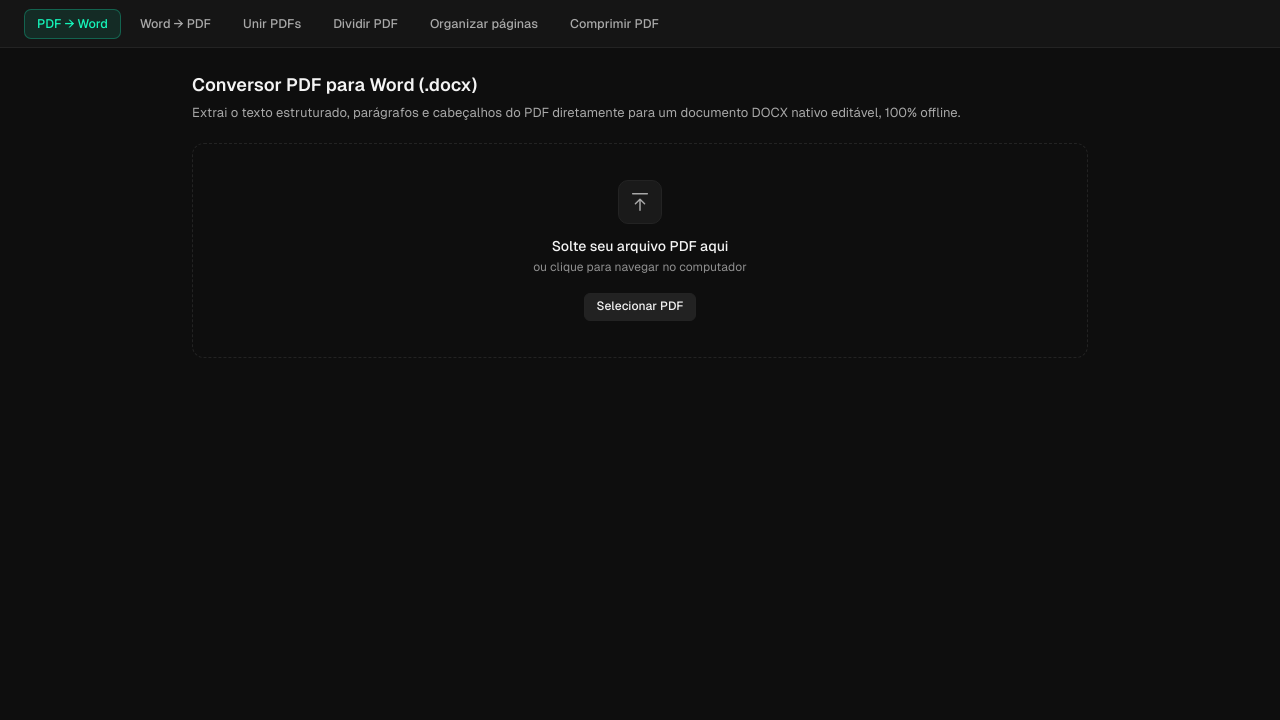
Test: Document Engine Screens Tests › switches between all document tools smoothly
The width and height of the screenshot is (1280, 720).
Click the button "Word → PDF": click(176, 24) [127, 8, 224, 38]
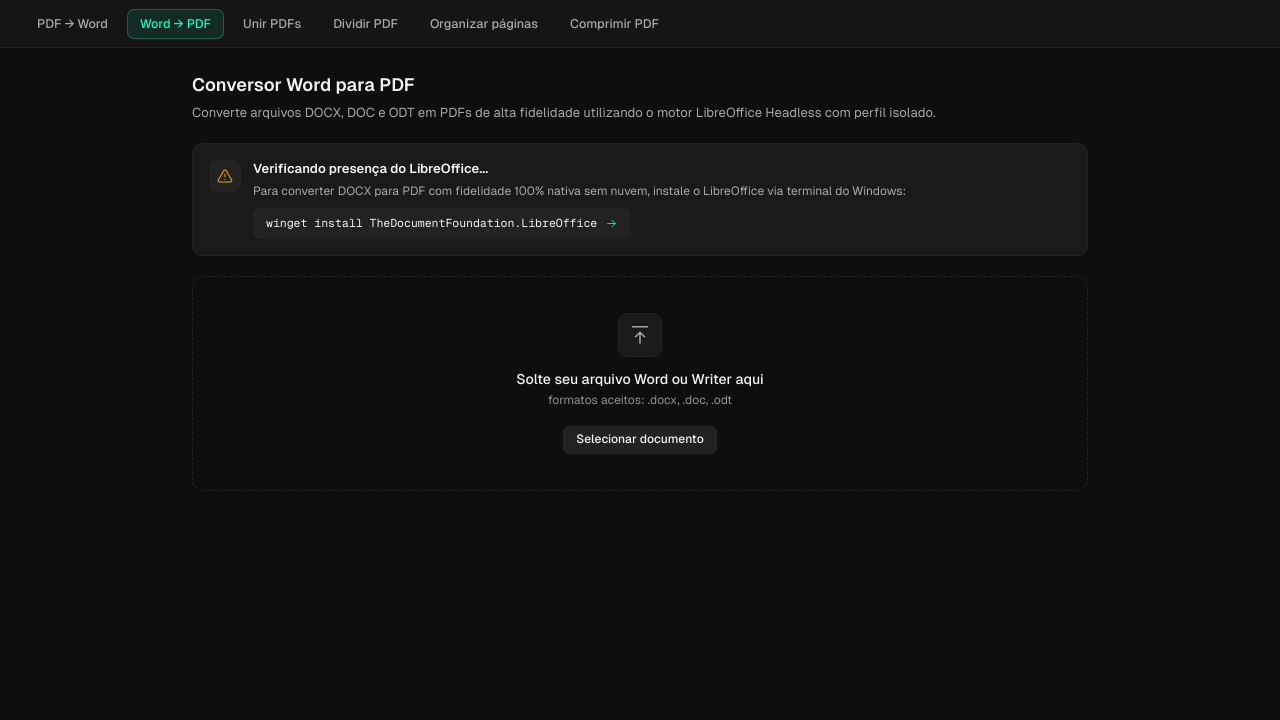
Result: the heading "Conversor Word para PDF" is shown at [192, 74, 415, 95]
Switch to Unir PDFs
Click the button "Unir PDFs": click(272, 24) [230, 8, 314, 38]
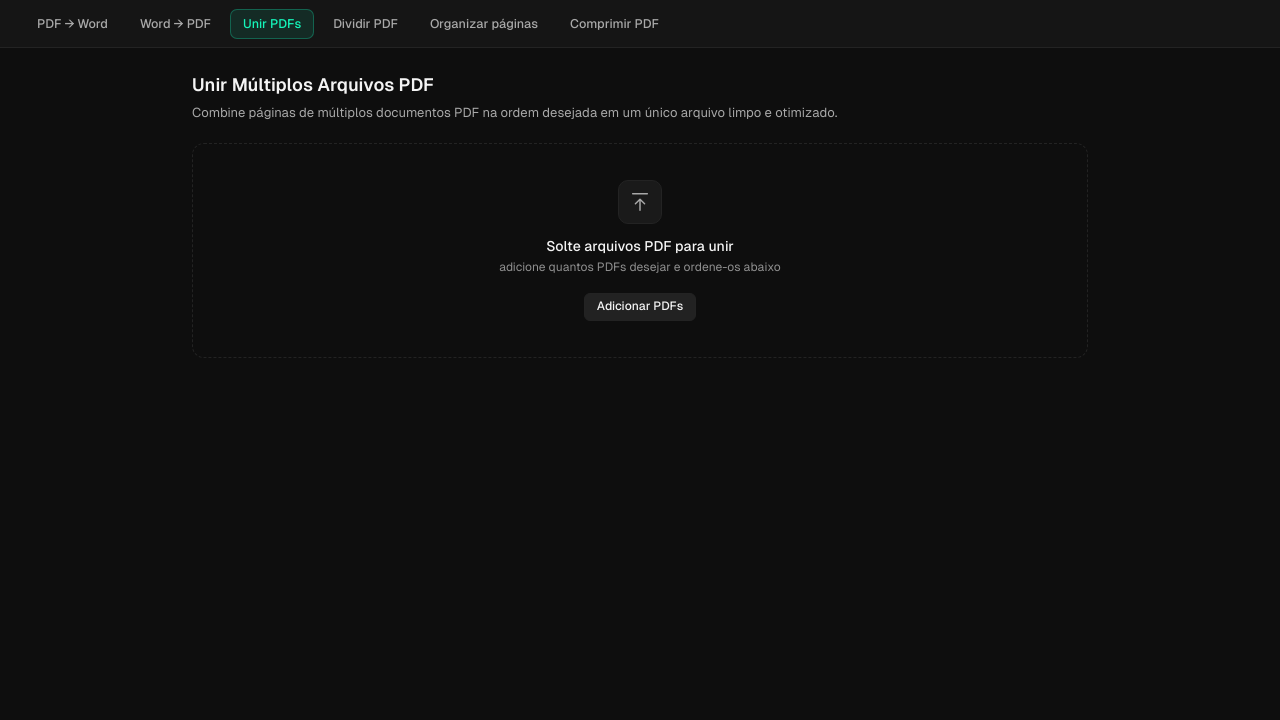
Result: the heading "Unir Múltiplos Arquivos PDF" is shown at [192, 74, 434, 95]
Switch to Dividir PDF
Click the button "Dividir PDF": click(366, 24) [320, 8, 411, 38]
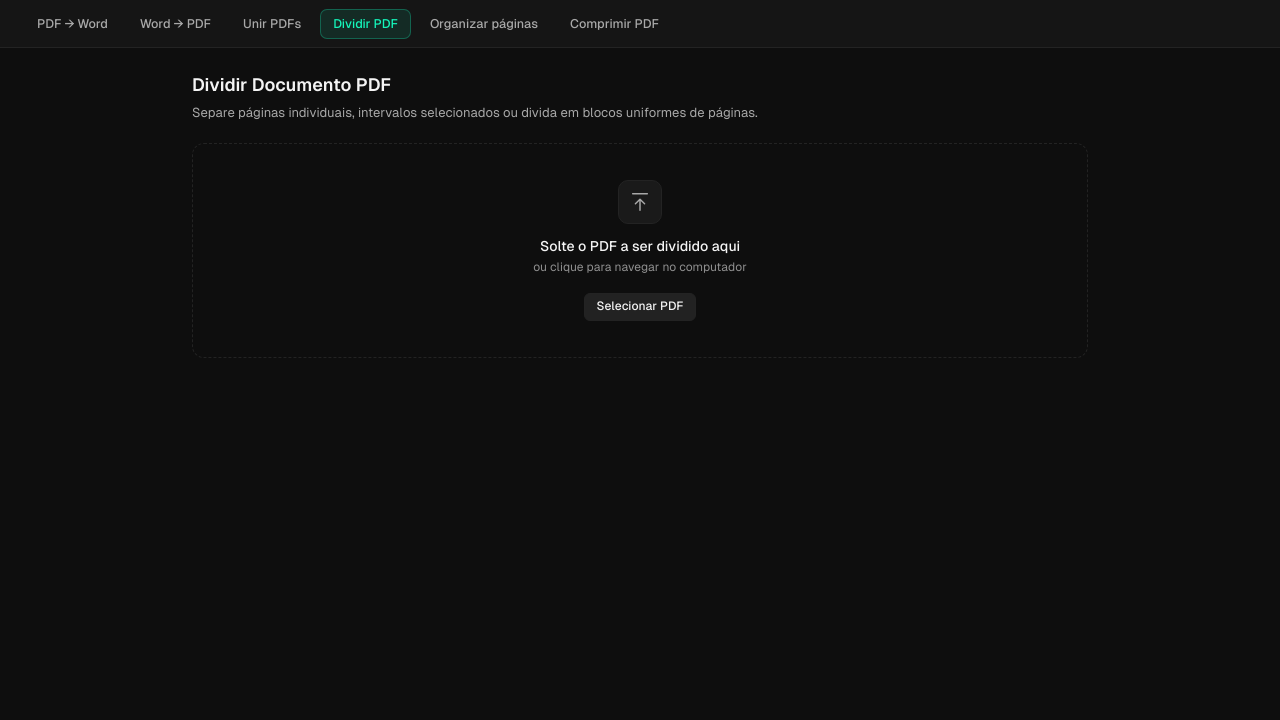
Result: the heading "Dividir Documento PDF" is shown at [192, 74, 391, 95]
Switch to Organizar páginas
Click the button "Organizar páginas": click(484, 24) [417, 8, 551, 38]
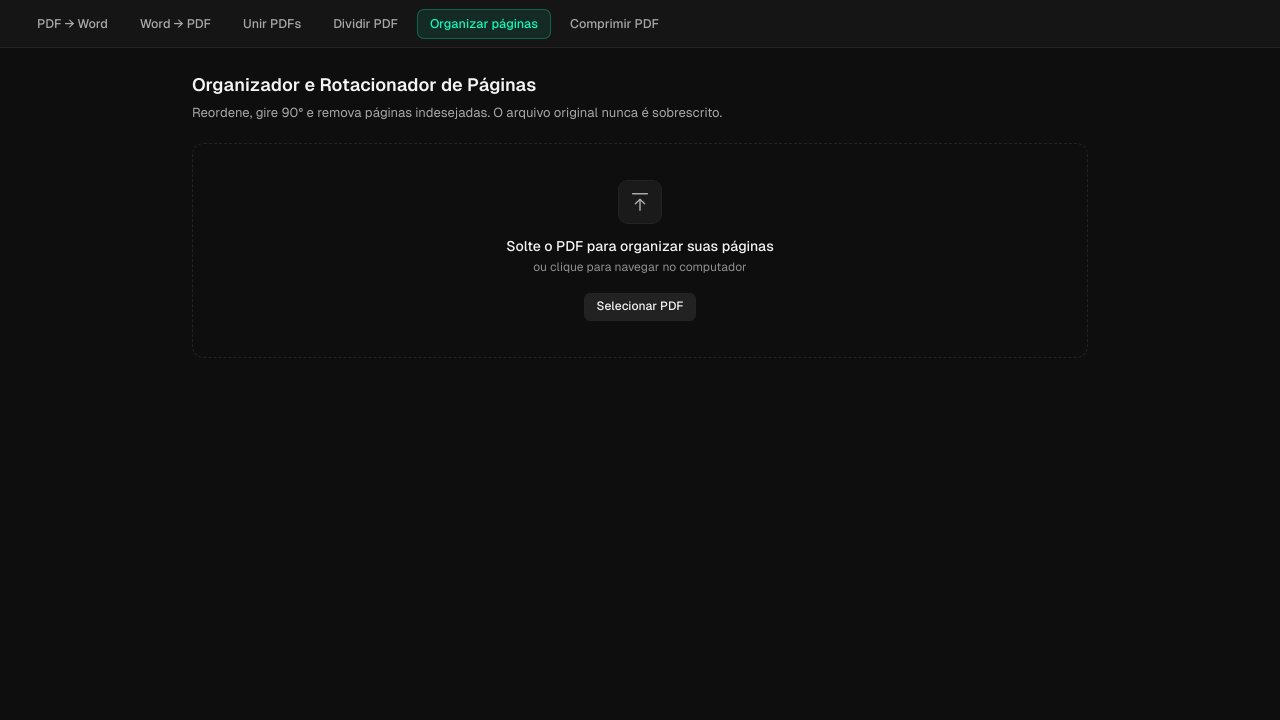
Result: the heading "Organizador e Rotacionador de Páginas" is shown at [192, 74, 536, 95]
Switch to Comprimir PDF
Click the button "Comprimir PDF": click(614, 24) [557, 8, 672, 38]
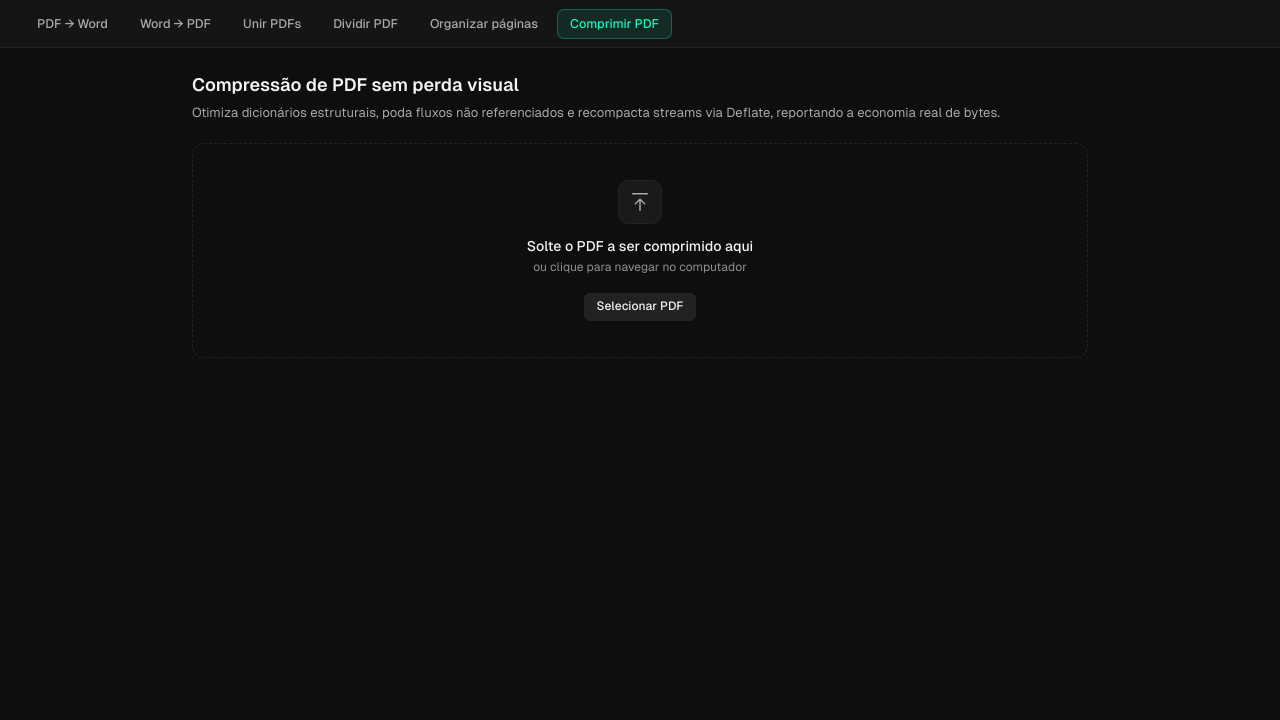
Result: the heading "Compressão de PDF sem perda visual" is shown at [192, 74, 519, 95]
